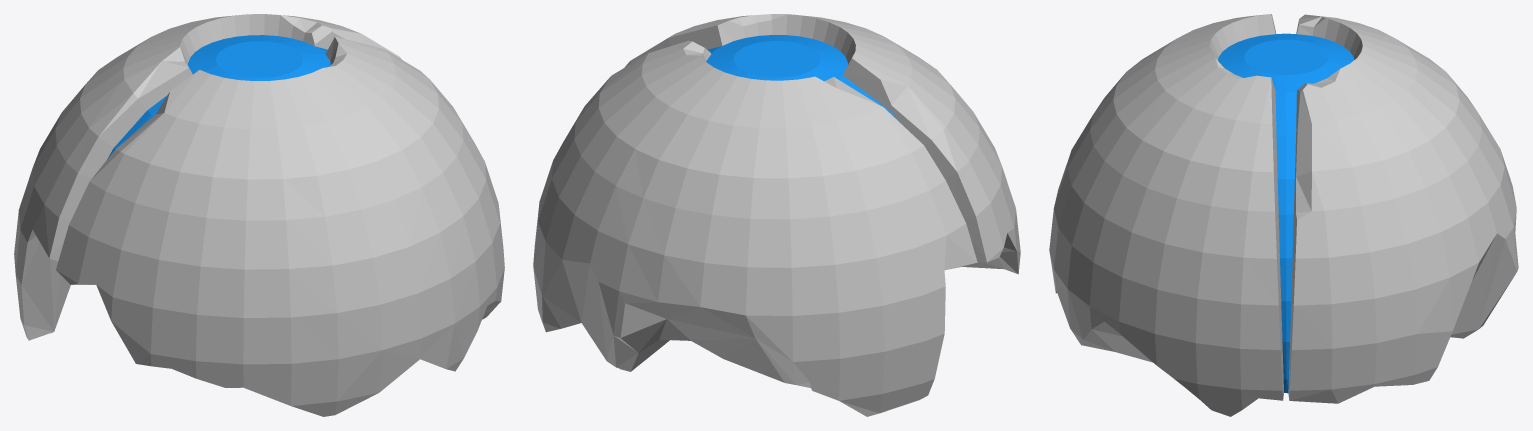
Rendered from Turret_Blast.fbx.
3 renders of one model, left to right at view 1: azimuth 30°, elevation 25°; view 2: azimuth 150°, elevation 25°; view 3: azimuth 270°, elevation 25°, orthographic. The views are drawn at different scales.
Visible parts, largest first — view 1: SK_Turret_Blast.mo; view 2: SK_Turret_Blast.mo; view 3: SK_Turret_Blast.mo.
Boxes of the visible parts, left/top/right/bottom form: SK_Turret_Blast.mo: left=14, top=14, right=504, bottom=416; SK_Turret_Blast.mo: left=533, top=14, right=1020, bottom=416; SK_Turret_Blast.mo: left=1049, top=14, right=1518, bottom=416.
Bounding box in the file's own units: 156 × 106 × 157.
